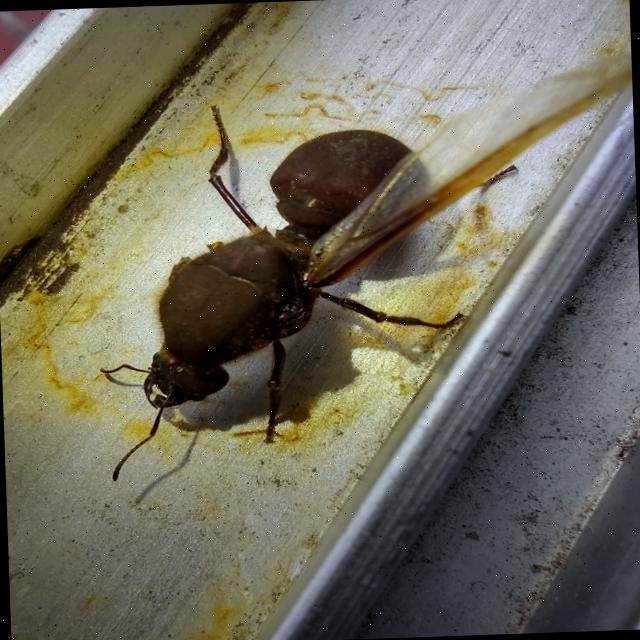Alive-Female-Alate: (86, 52, 640, 481)
